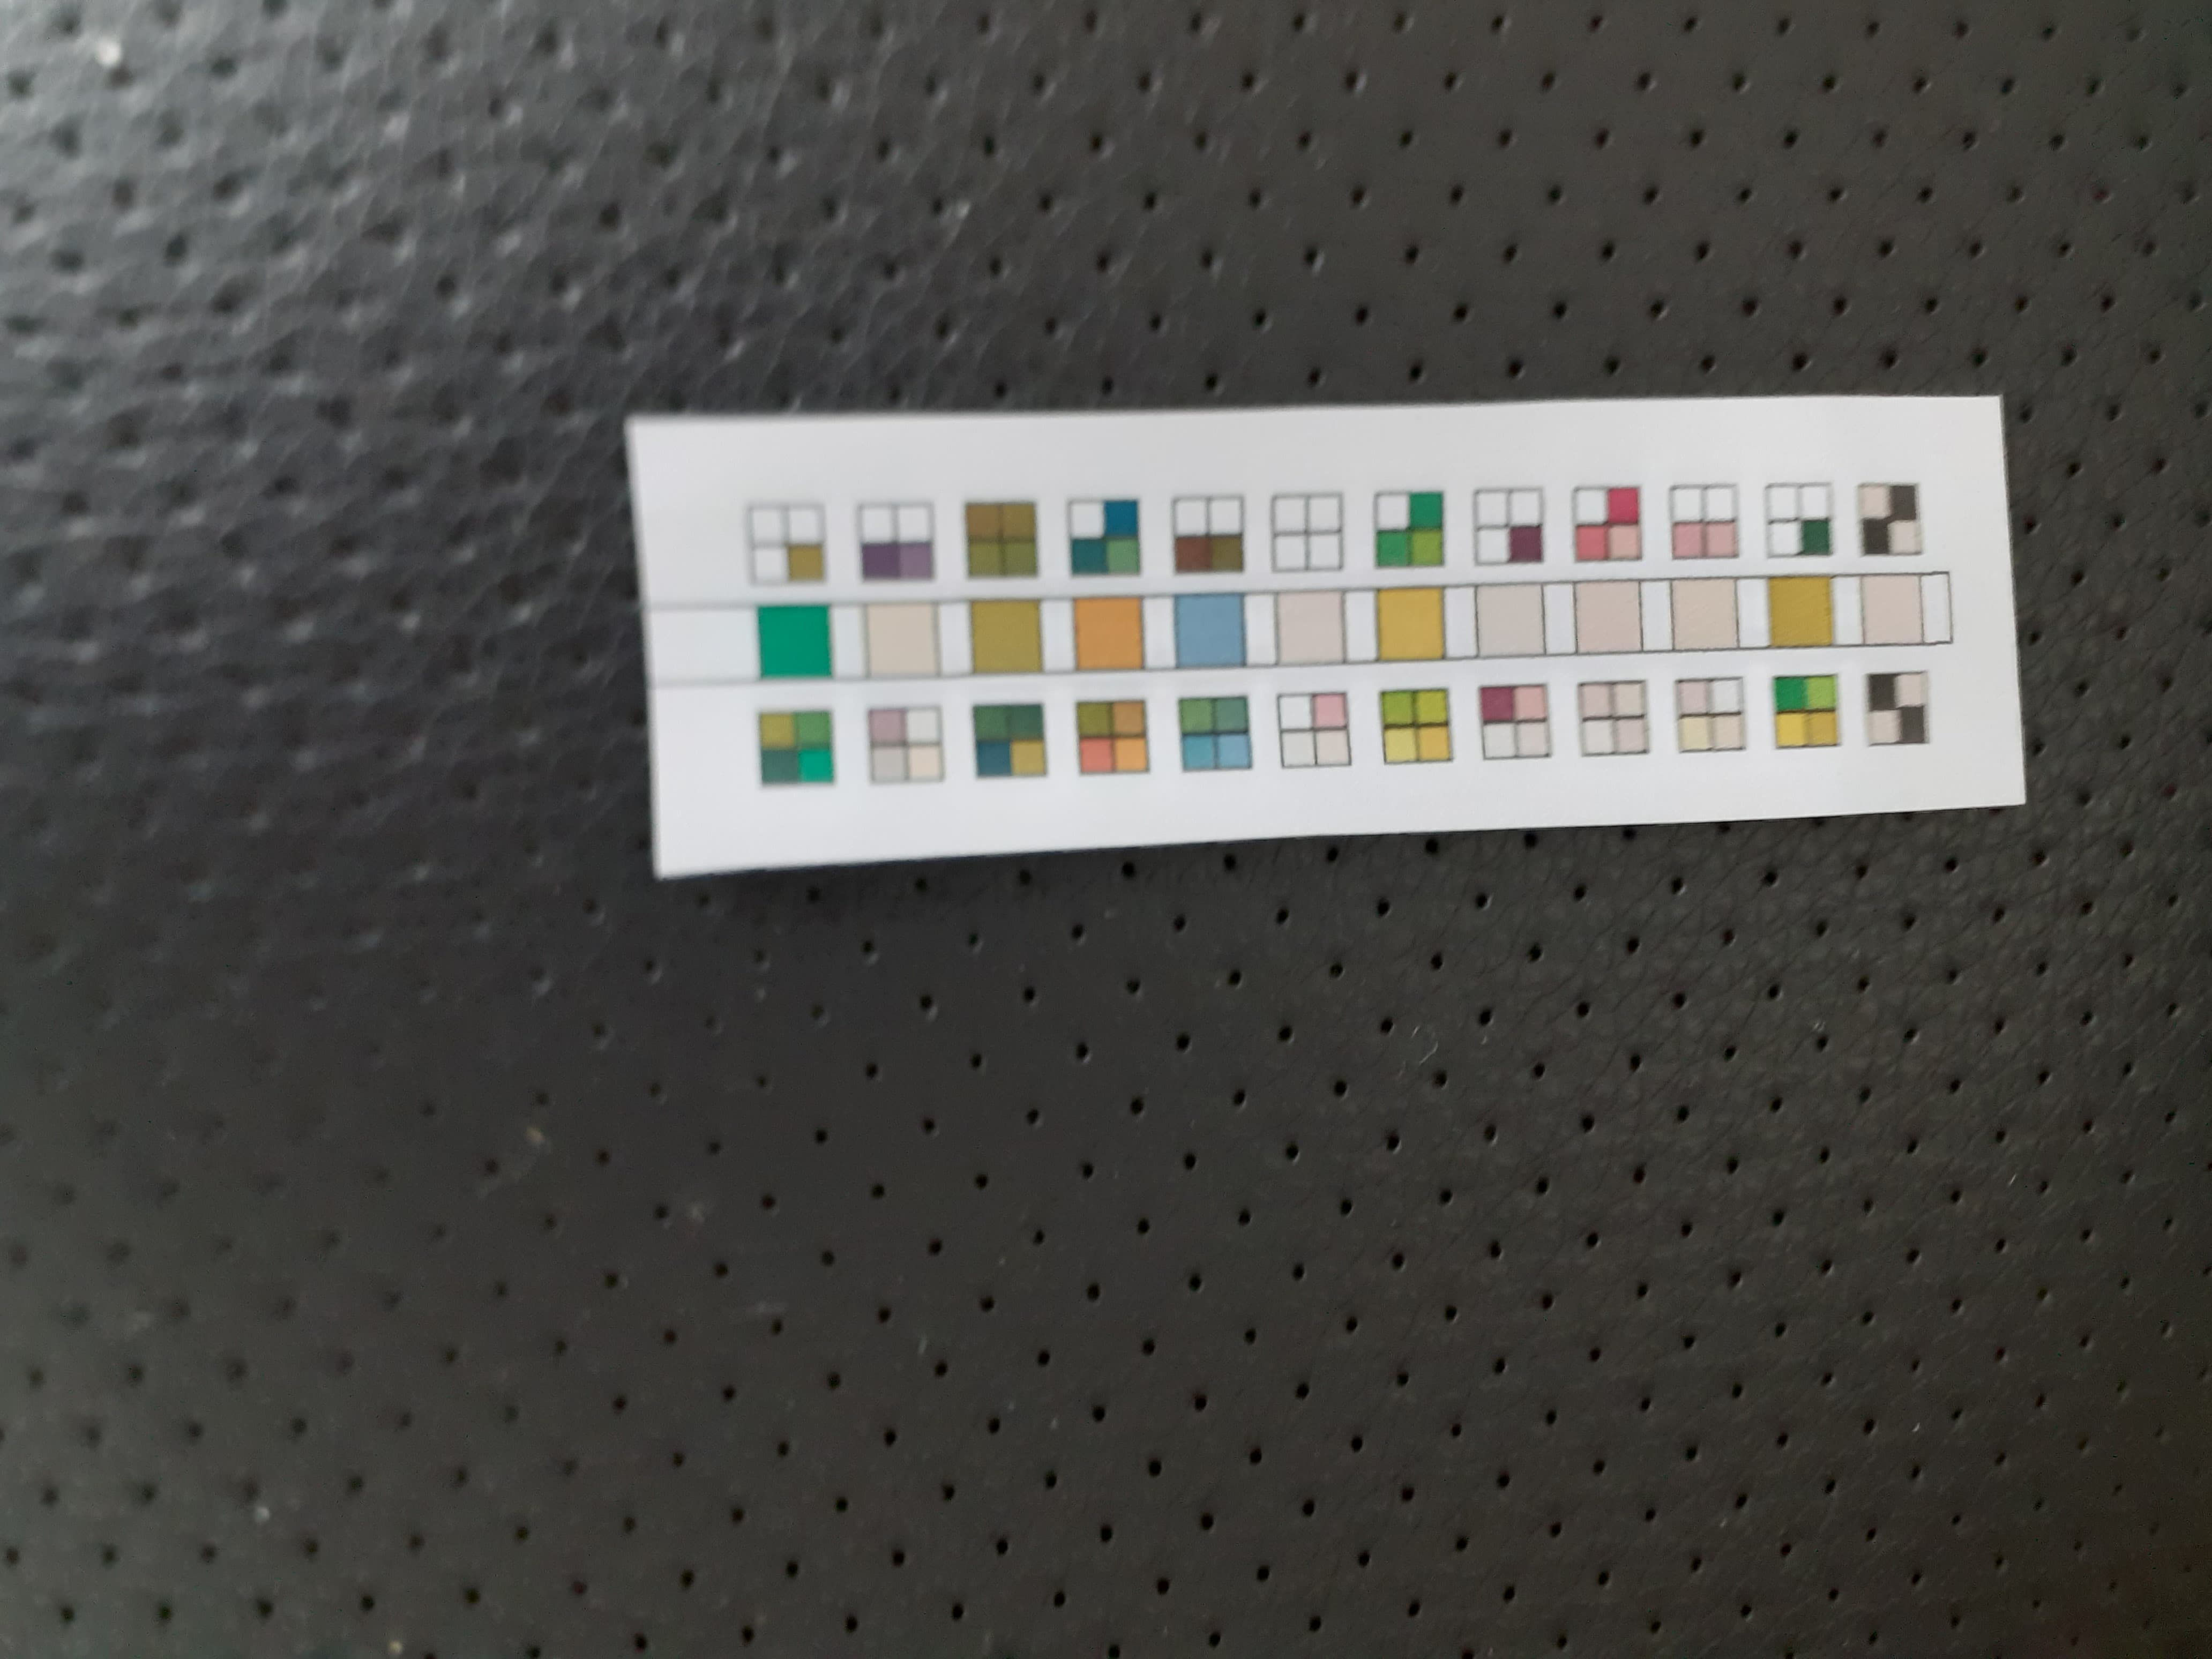tester: (625, 411, 2027, 819)
